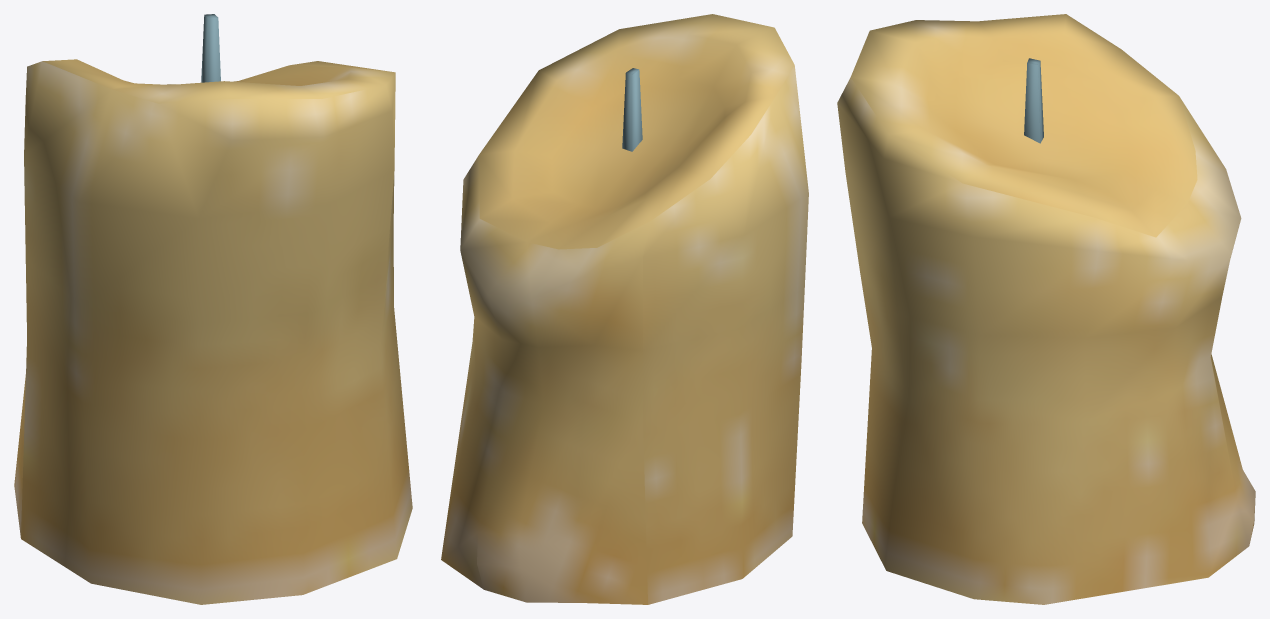
The model's file is candle.glb.
3 views of the same model, side by side, from view 1: azimuth 30°, elevation 25°; view 2: azimuth 150°, elevation 25°; view 3: azimuth 270°, elevation 25° (orthographic). The views are drawn at different scales.
Visible parts, largest first — view 1: Candle_1; view 2: Candle_1; view 3: Candle_1.
Boxes of the visible parts, <box> form: Candle_1: <box>14,14,412,604</box>; Candle_1: <box>441,14,808,604</box>; Candle_1: <box>837,14,1255,604</box>.
Bounding box in the file's own units: 0.0939 × 0.132 × 0.1079.
Materials: 1 (1 with a texture image).
